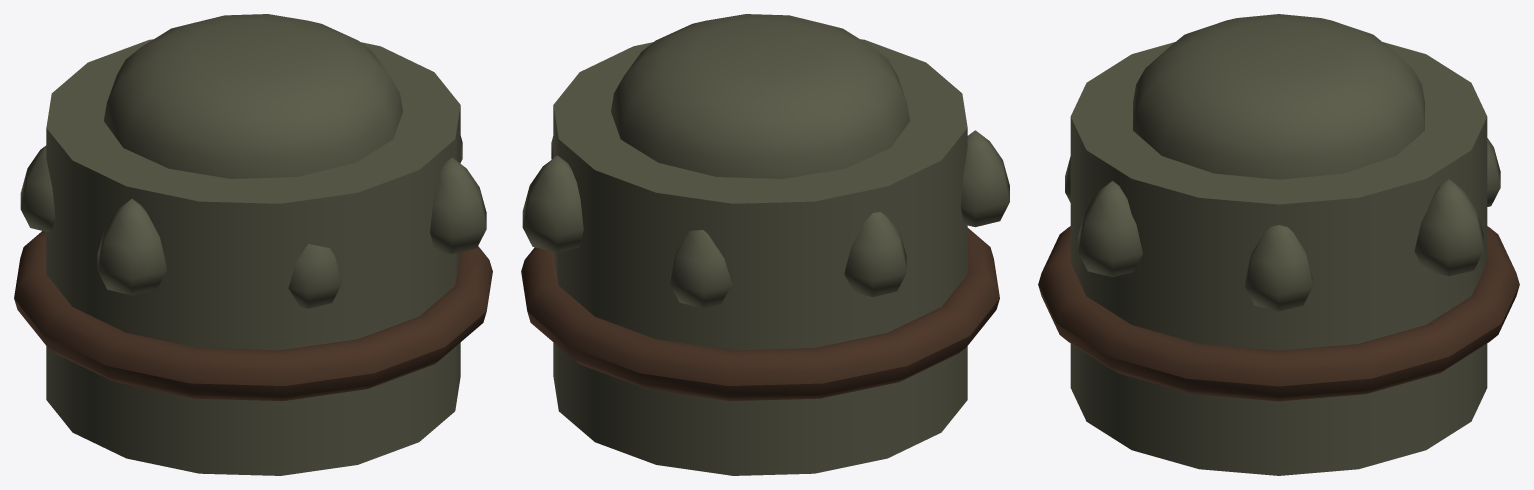
File: scale_mail.obj
3 renders of one model, left to right at view 1: azimuth 30°, elevation 25°; view 2: azimuth 150°, elevation 25°; view 3: azimuth 270°, elevation 25°, orthographic.
Parts seen in each view (by area): view 1: scale_mail; view 2: scale_mail; view 3: scale_mail.
Boxes of the visible parts, <box> form: scale_mail: <box>14,14,492,475</box>; scale_mail: <box>521,14,1009,475</box>; scale_mail: <box>1038,14,1519,475</box>.
Bounding box in the file's own units: 1.48 × 1.16 × 1.48.
